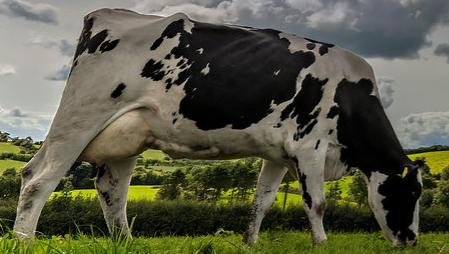cow: (15, 9, 428, 248)
